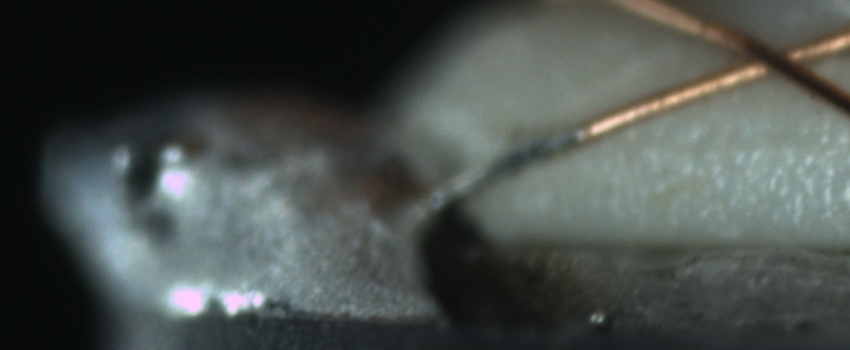CL: (706, 28, 838, 87)
DL: (636, 110, 850, 174)
TS: (434, 129, 582, 209)
